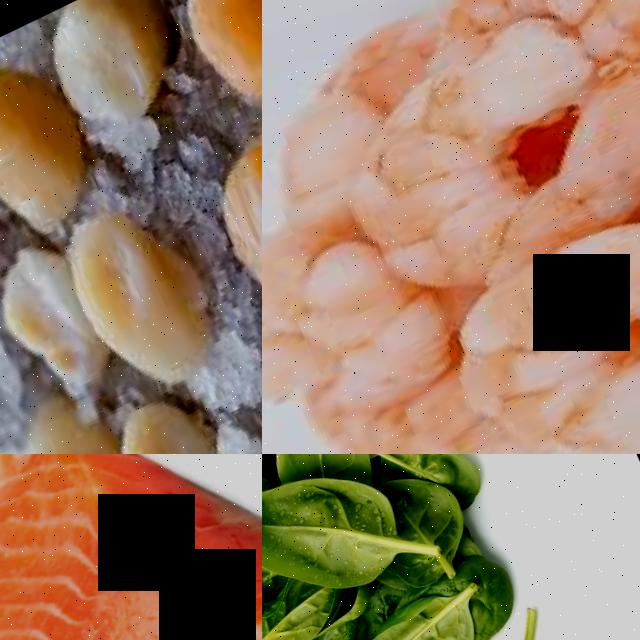salmon: (0, 454, 262, 640)
sea scallops: (46, 182, 257, 406), (0, 29, 122, 256), (24, 0, 206, 141), (186, 113, 262, 326), (144, 0, 262, 120), (93, 375, 262, 454)
shrimp: (297, 0, 640, 333), (425, 131, 640, 454), (384, 0, 640, 70)
spinach: (262, 454, 430, 622), (345, 569, 516, 640), (262, 454, 374, 489)
